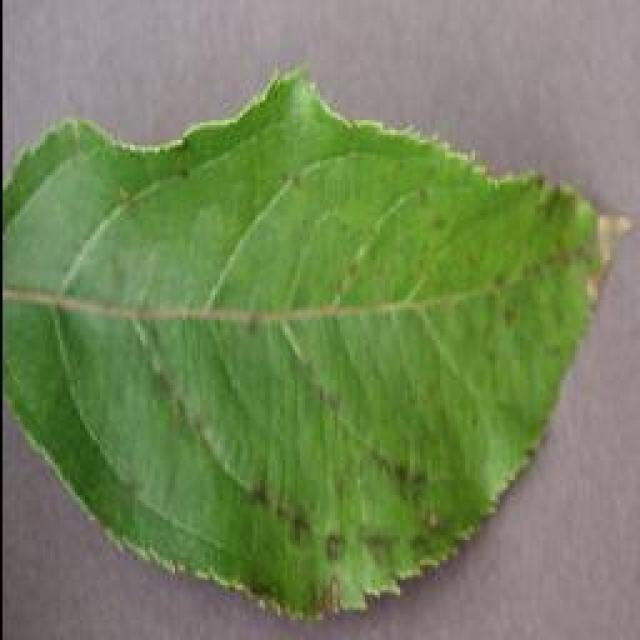apple scab disease: (0, 65, 605, 623)
